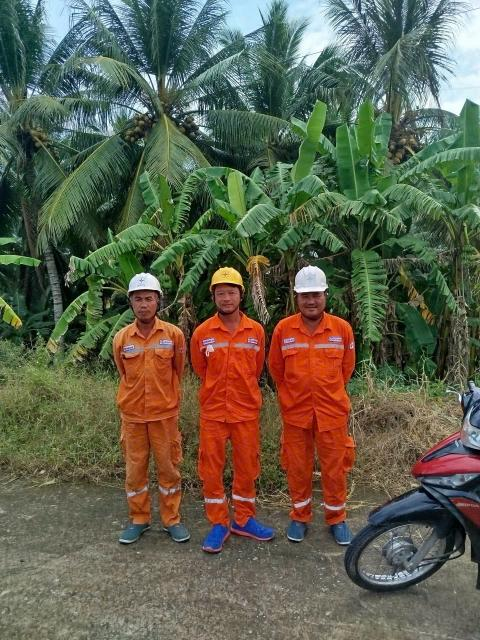helmet: (116, 265, 174, 302), (290, 261, 337, 303), (205, 262, 254, 295)
shoes: (231, 509, 275, 547), (197, 517, 234, 552), (112, 519, 158, 545), (162, 516, 197, 546), (282, 512, 313, 544), (324, 514, 355, 543)
